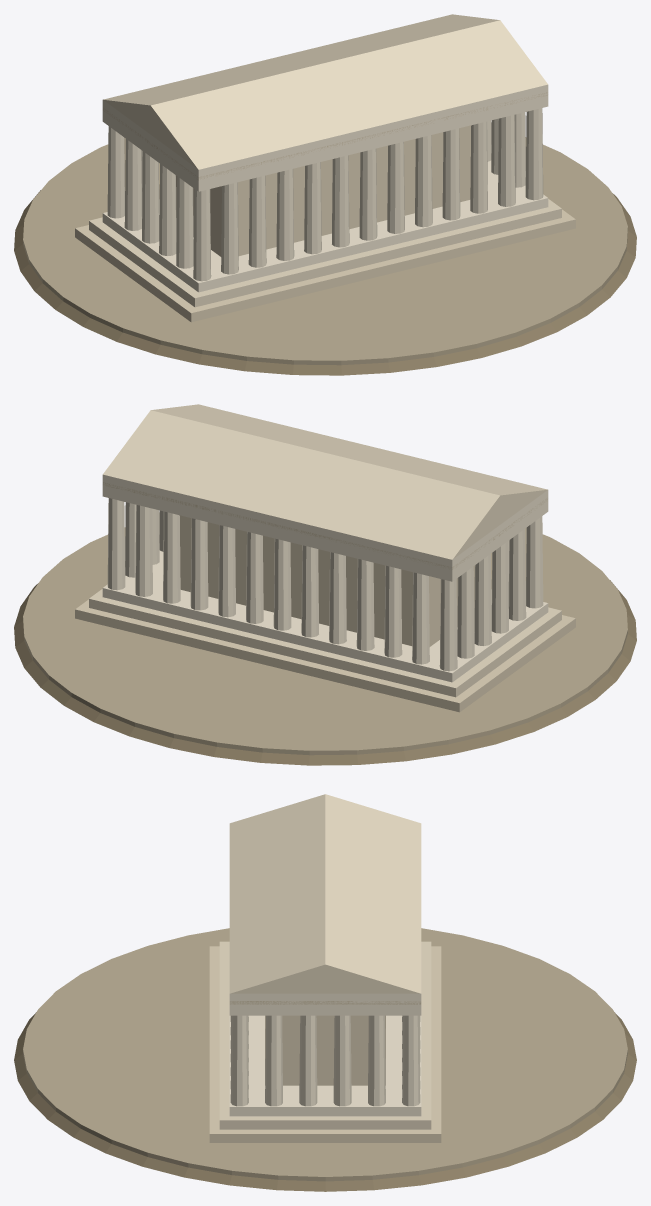
The model's file is parthenon.glb.
The picture shows the model from 3 angles, top to bottom: view 1: azimuth 30°, elevation 25°; view 2: azimuth 150°, elevation 25°; view 3: azimuth 270°, elevation 25°; orthographic projection.
Parts seen in each view (by area): view 1: parthenon; view 2: parthenon; view 3: parthenon.
Part boxes in pixels (x1,y1,x2,y2): parthenon: (14, 14, 636, 375); parthenon: (14, 404, 636, 765); parthenon: (14, 794, 636, 1191).
Size of the model in its own units: 3.12 by 1 by 3.12.
